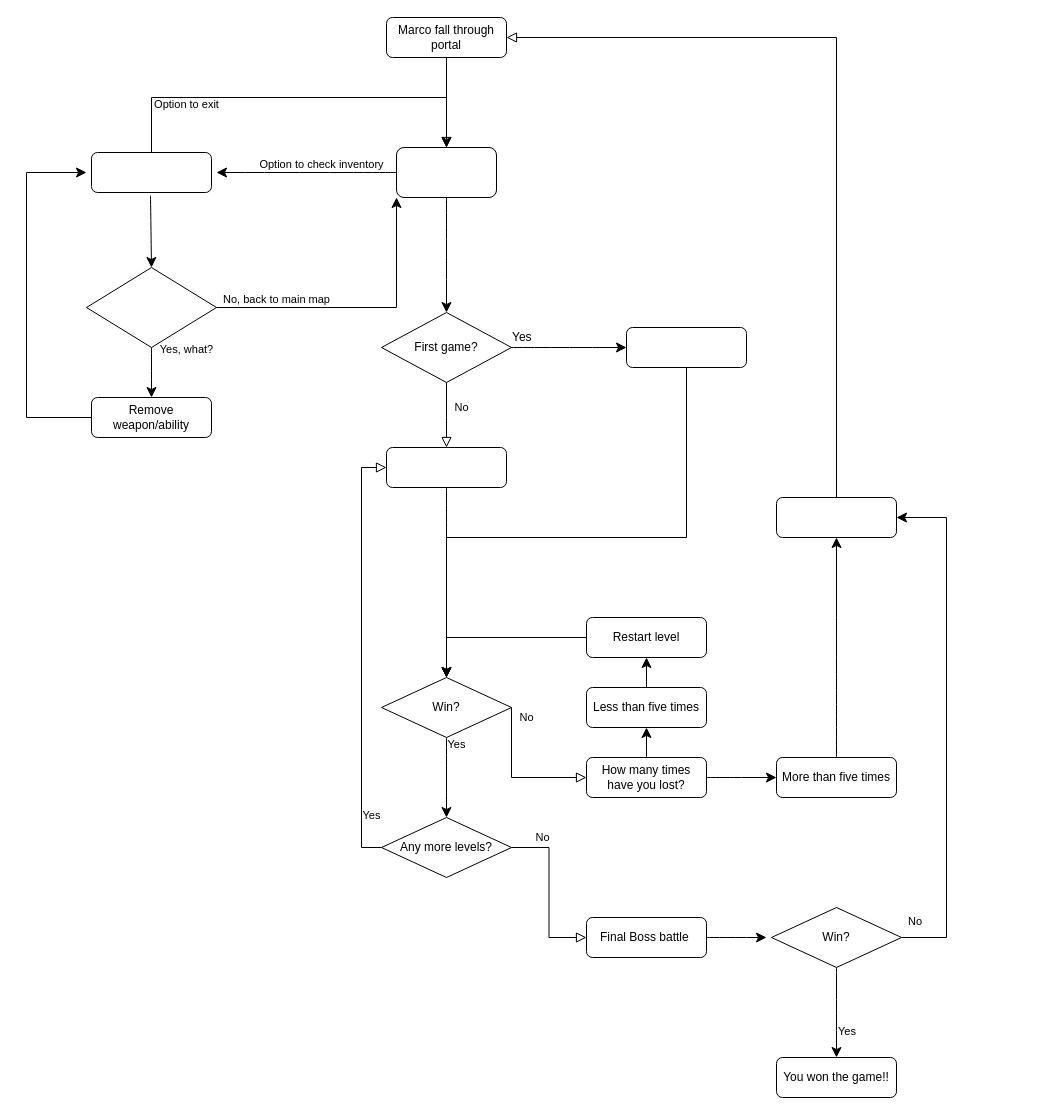
Image size: 1044x1115. Some labels were removed from this diagram. The shapes that lost their labels are listed below. From the top down, each one's centre as x and y in pixels, then its label:
the point at 151,172: Inventory
the point at 446,172: Main map
the point at 151,307: Want to remove something?
the point at 686,347: Level 1
the point at 446,467: Next level on progression
the point at 836,517: Restart the game
